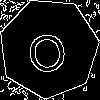O: (24, 23, 69, 75)
